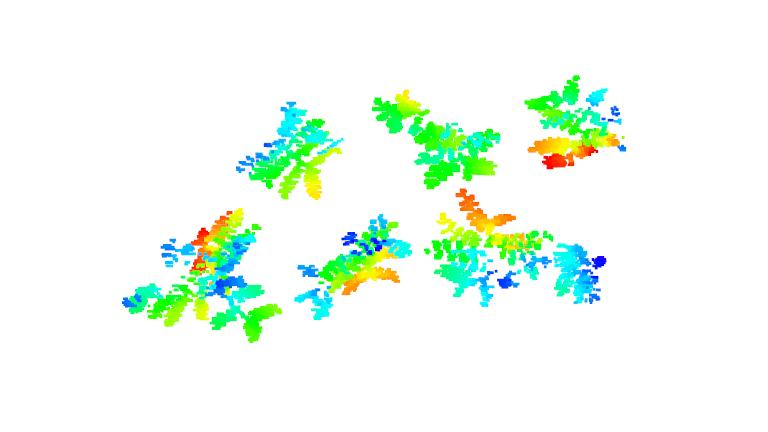chickpea: (370, 85, 503, 190), (429, 188, 548, 303), (231, 97, 350, 203), (295, 212, 410, 320), (207, 206, 287, 344), (128, 207, 217, 324), (523, 73, 635, 165), (548, 239, 611, 308)
